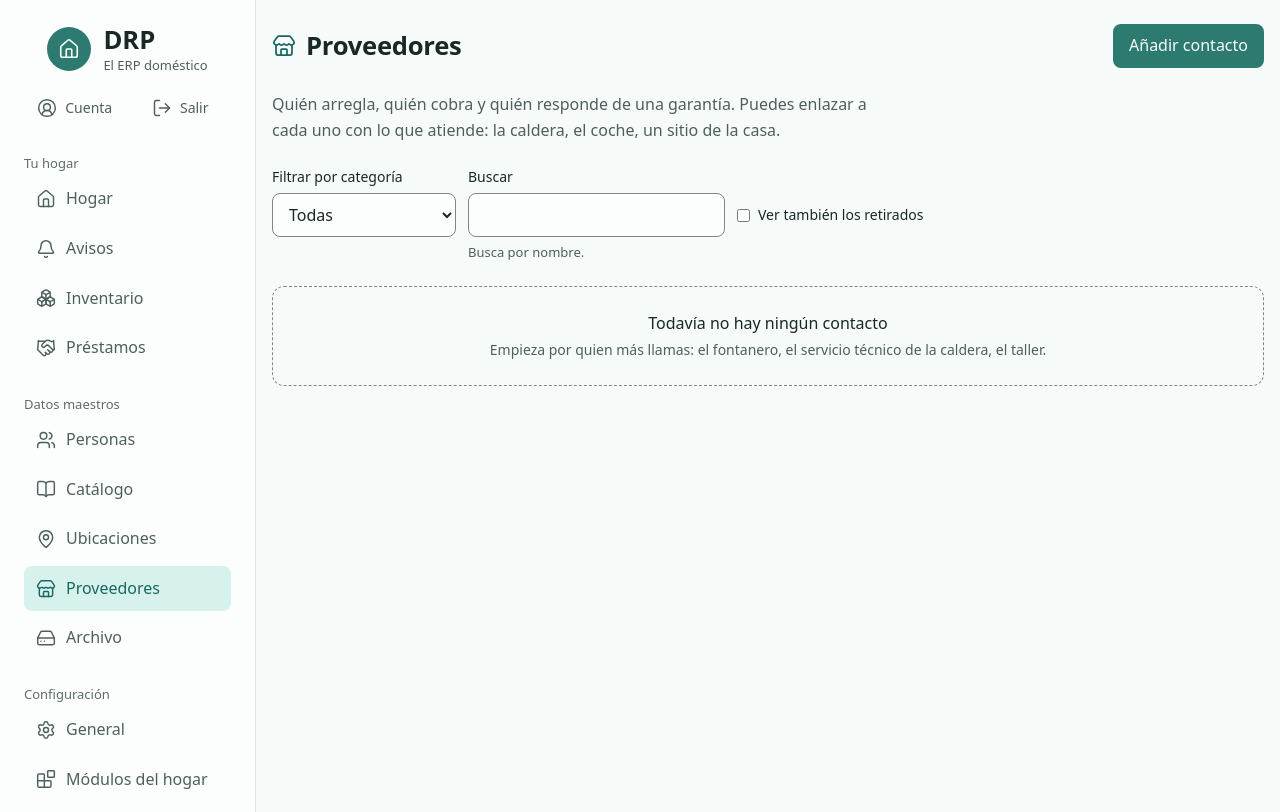
alta de un contacto › manda lo que se ha escrito y refresca la lista
The image size is (1280, 812).
Expected: the heading "Proveedores" is shown, [306, 30, 462, 62]
Click the button "Añadir contacto": (1188,46) [1113, 24, 1264, 68]
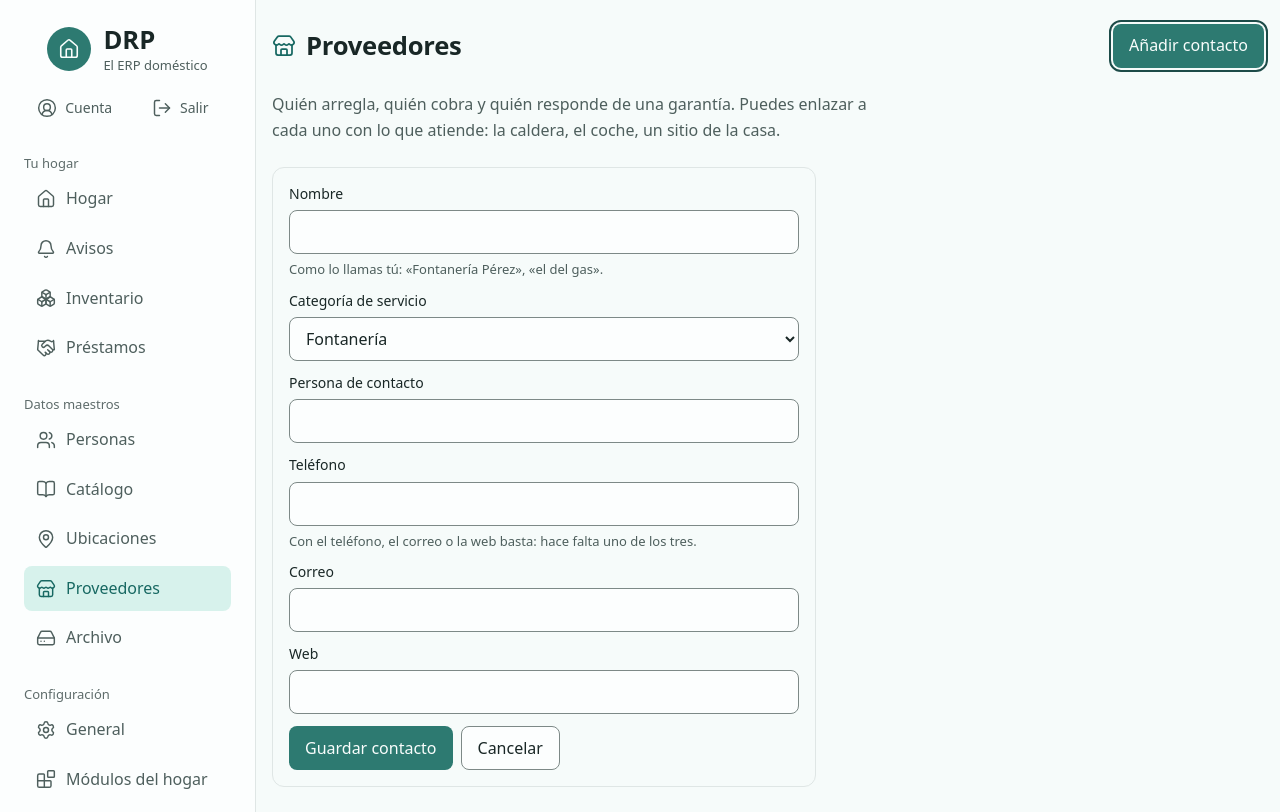
In the field labelled "Nombre": (544,232) [289, 210, 799, 254], type "Taller Ramírez"
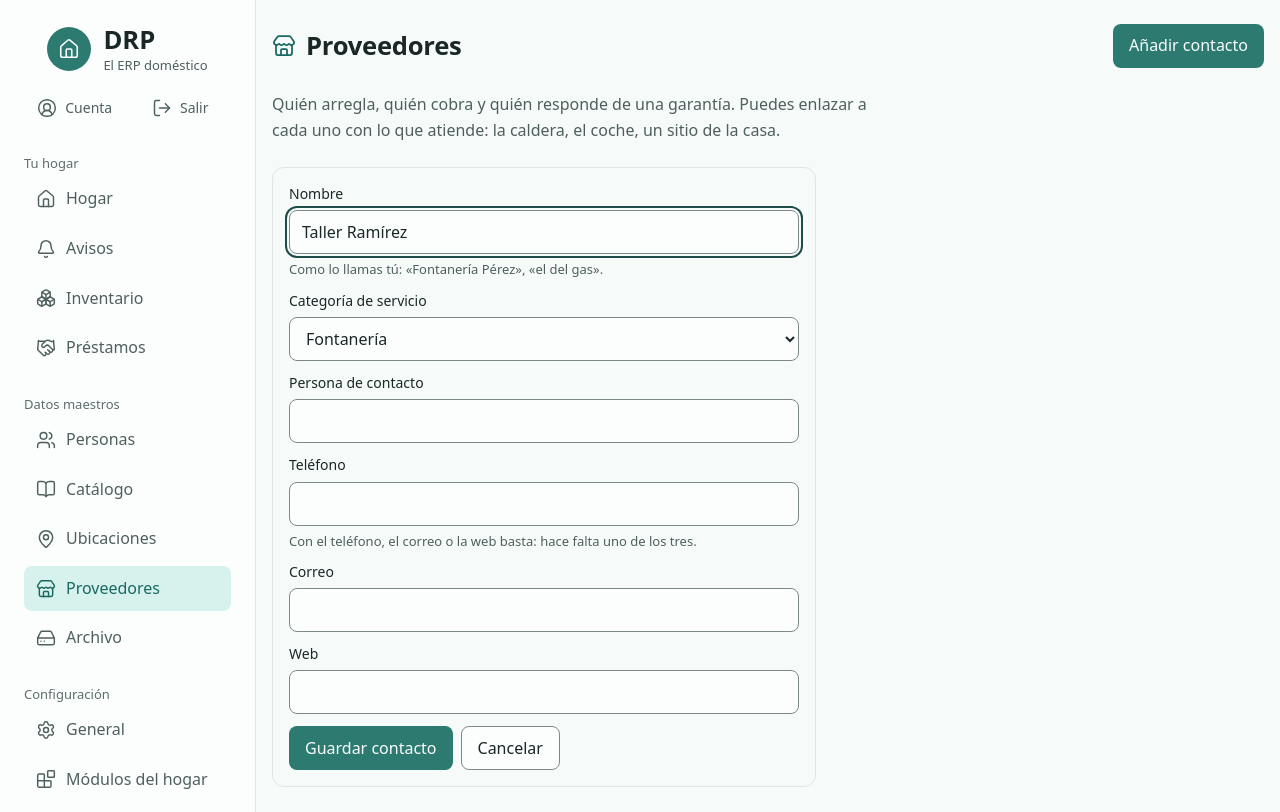
Select "Vehículos" in the dropdown labelled "Categoría de servicio": (544,339) [289, 317, 799, 361]
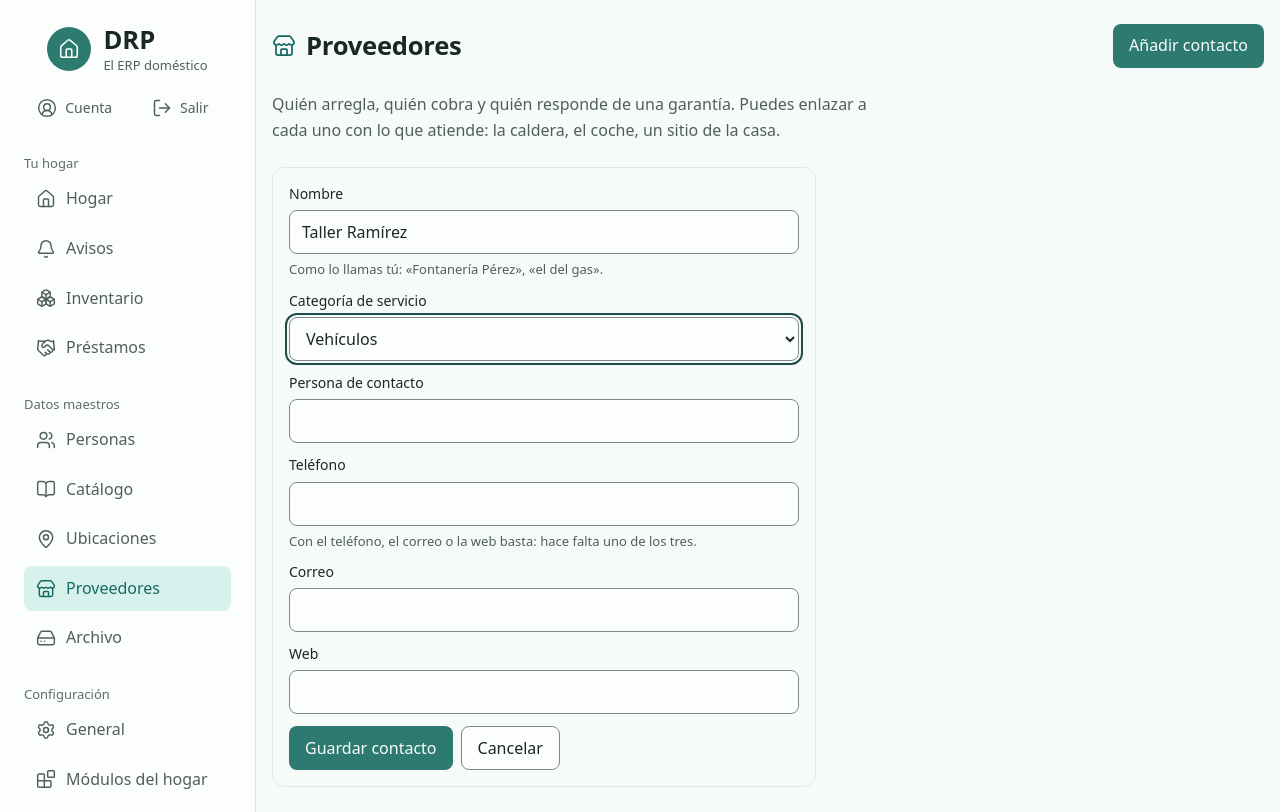
In the field labelled "Teléfono": (544,504) [289, 482, 799, 526], type "600 300 400"
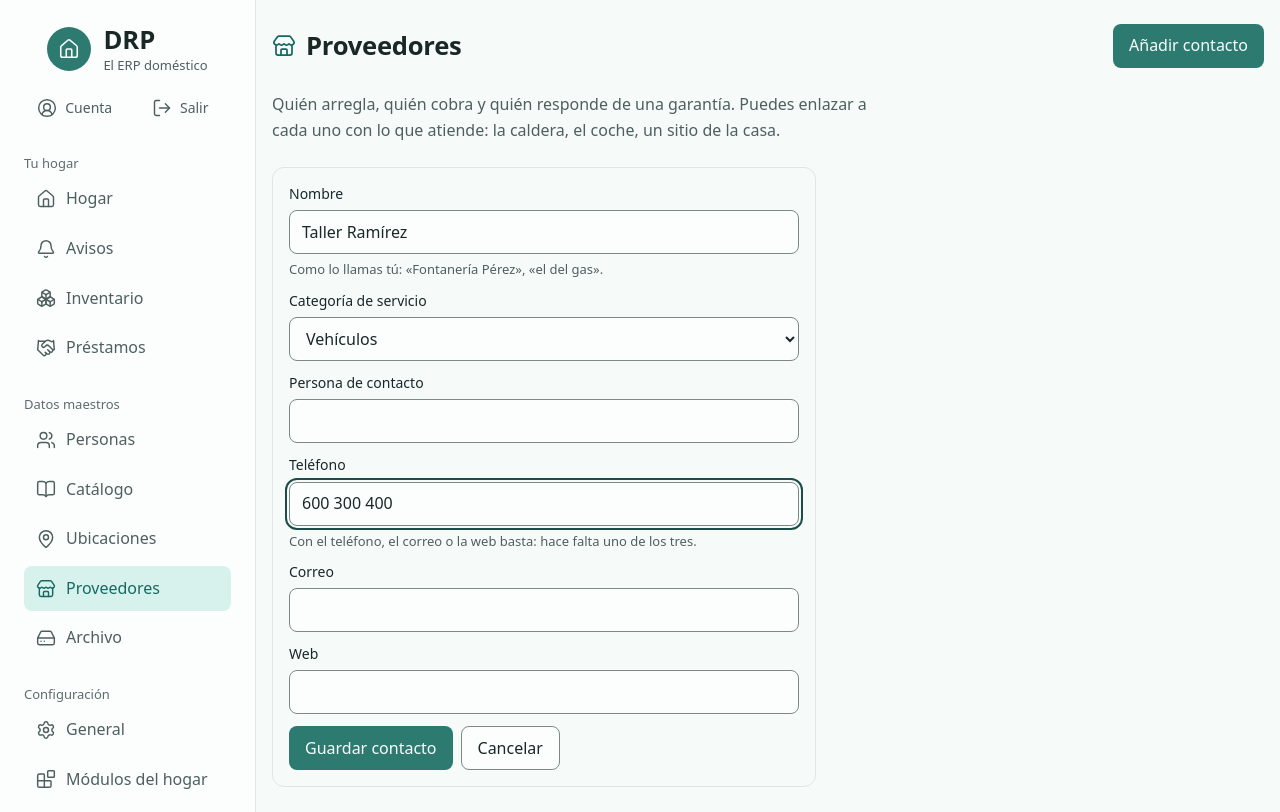
Click the button "Guardar contacto": (371,748) [289, 726, 452, 770]
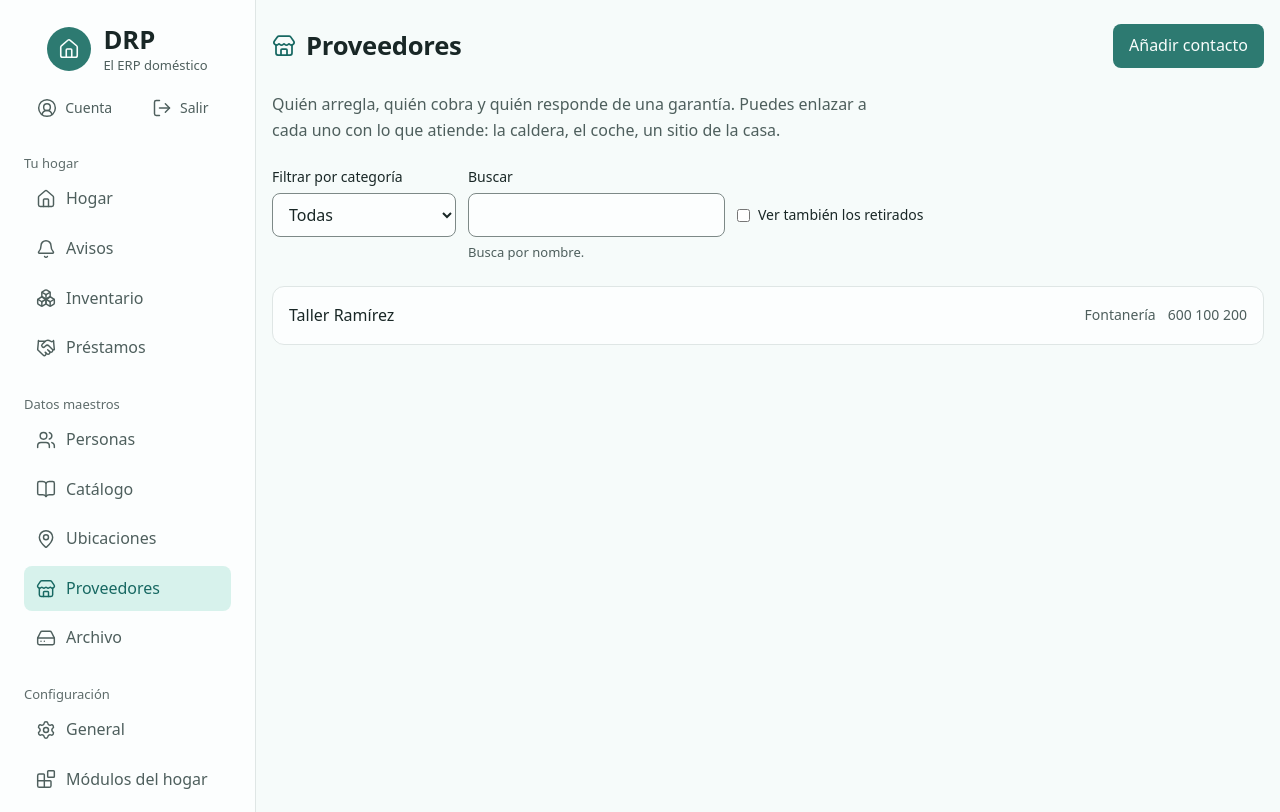
Now the text "Taller Ramírez" is shown, box [289, 303, 394, 328]
